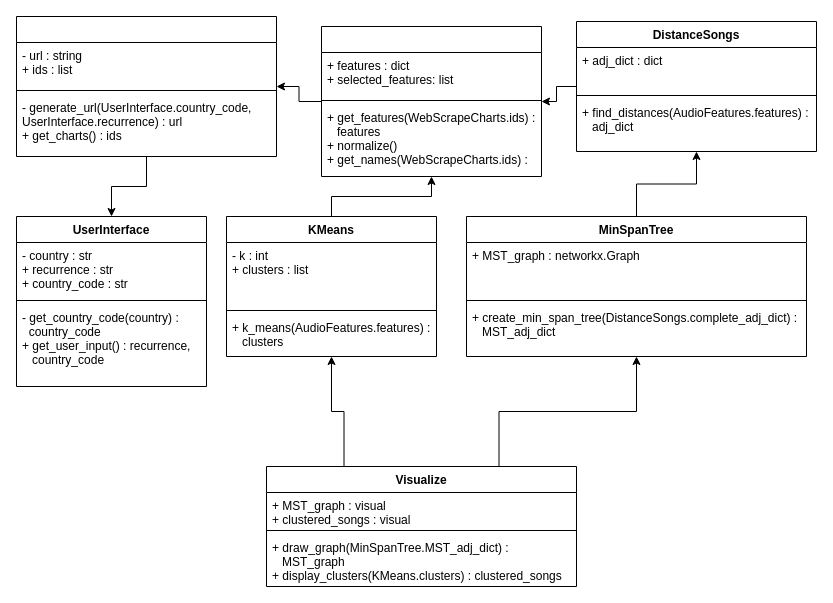
Some shapes in this 833 by 603 pixel diagram are drawn without their labels. The shapes that lost their labels are listed below. From the top down, each one's box as (x1, y1, x2, y2) in pixels, then its label:
(16, 16, 276, 156): WebScrapeCharts
(320, 26, 542, 176): AudioFeatures
